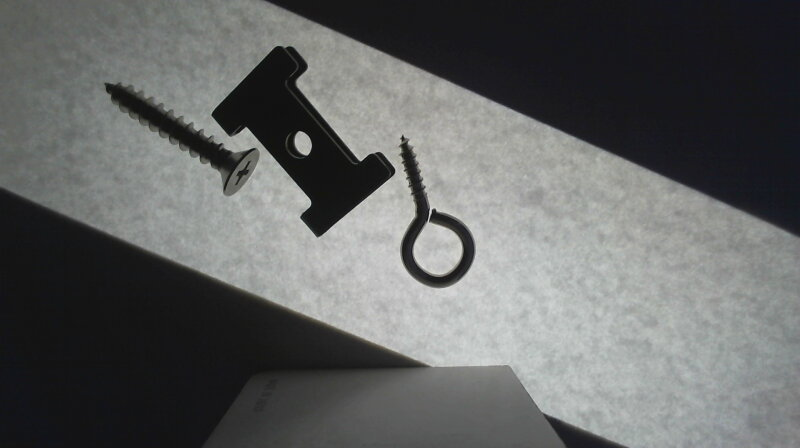O001: (395, 131, 477, 289)
O002: (209, 45, 397, 238)
S001: (100, 79, 258, 195)
